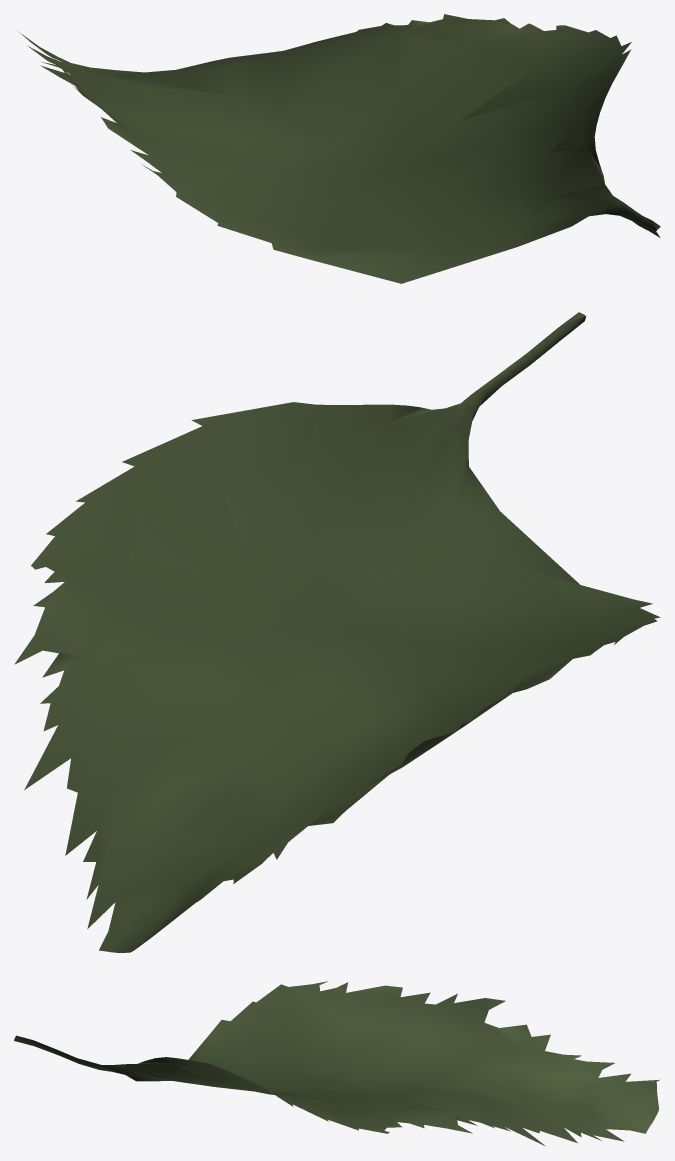
File: trees-leaves-elm-leaf_v4.glb
The picture shows the model from 3 angles, top to bottom: view 1: azimuth 30°, elevation 25°; view 2: azimuth 150°, elevation 25°; view 3: azimuth 270°, elevation 25°; orthographic projection. The views are drawn at different scales.
Parts seen in each view (by area): view 1: Elm Leaf_v4; view 2: Elm Leaf_v4; view 3: Elm Leaf_v4.
Boxes of the visible parts, <box> form: Elm Leaf_v4: <box>19,14,660,283</box>; Elm Leaf_v4: <box>14,312,660,952</box>; Elm Leaf_v4: <box>14,981,660,1146</box>.
Size of the model in its own units: 0.0546 by 0.021 by 0.1.
